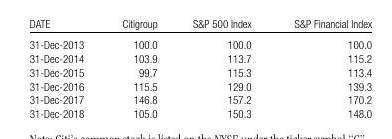table: (0, 0, 392, 139)
